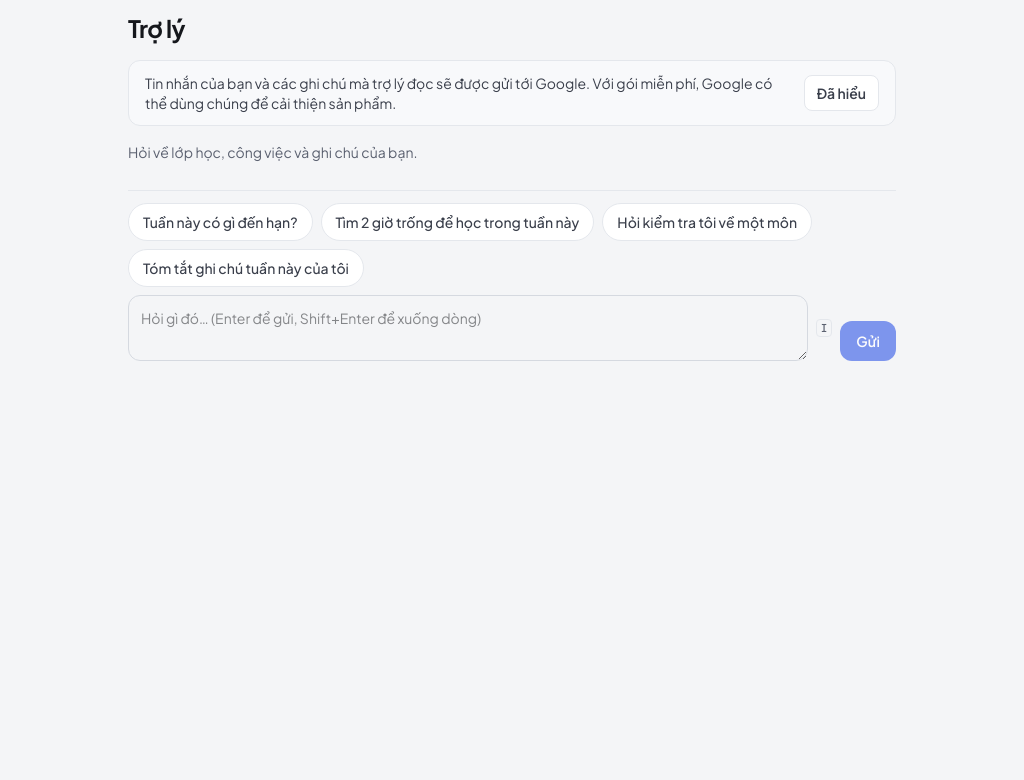
Test: AssistantPage › shows the Vietnamese limit text and the hint when a 429 arrives in Vietnamese
The width and height of the screenshot is (1024, 780).
Type "xin chào" into the text box named "Nhắn cho trợ lý" at point(468, 328), box [128,295,808,361]
Then press Enter
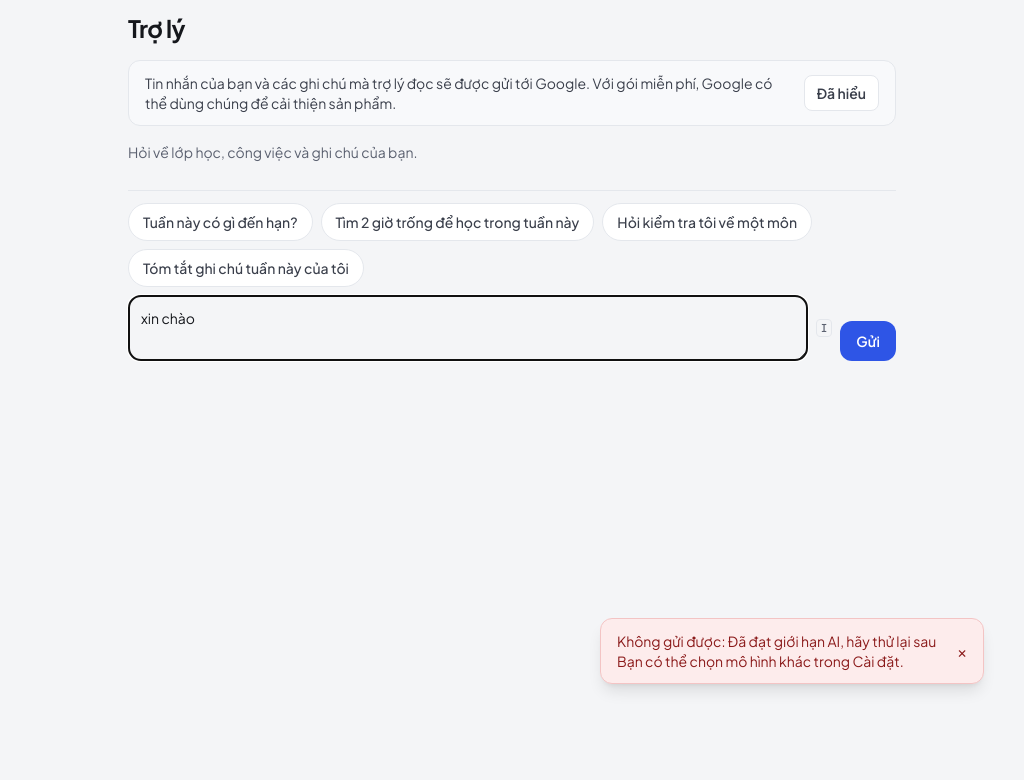
Check: the text "Bạn có thể chọn mô hình khác" is shown, box [617,632,936,670]
